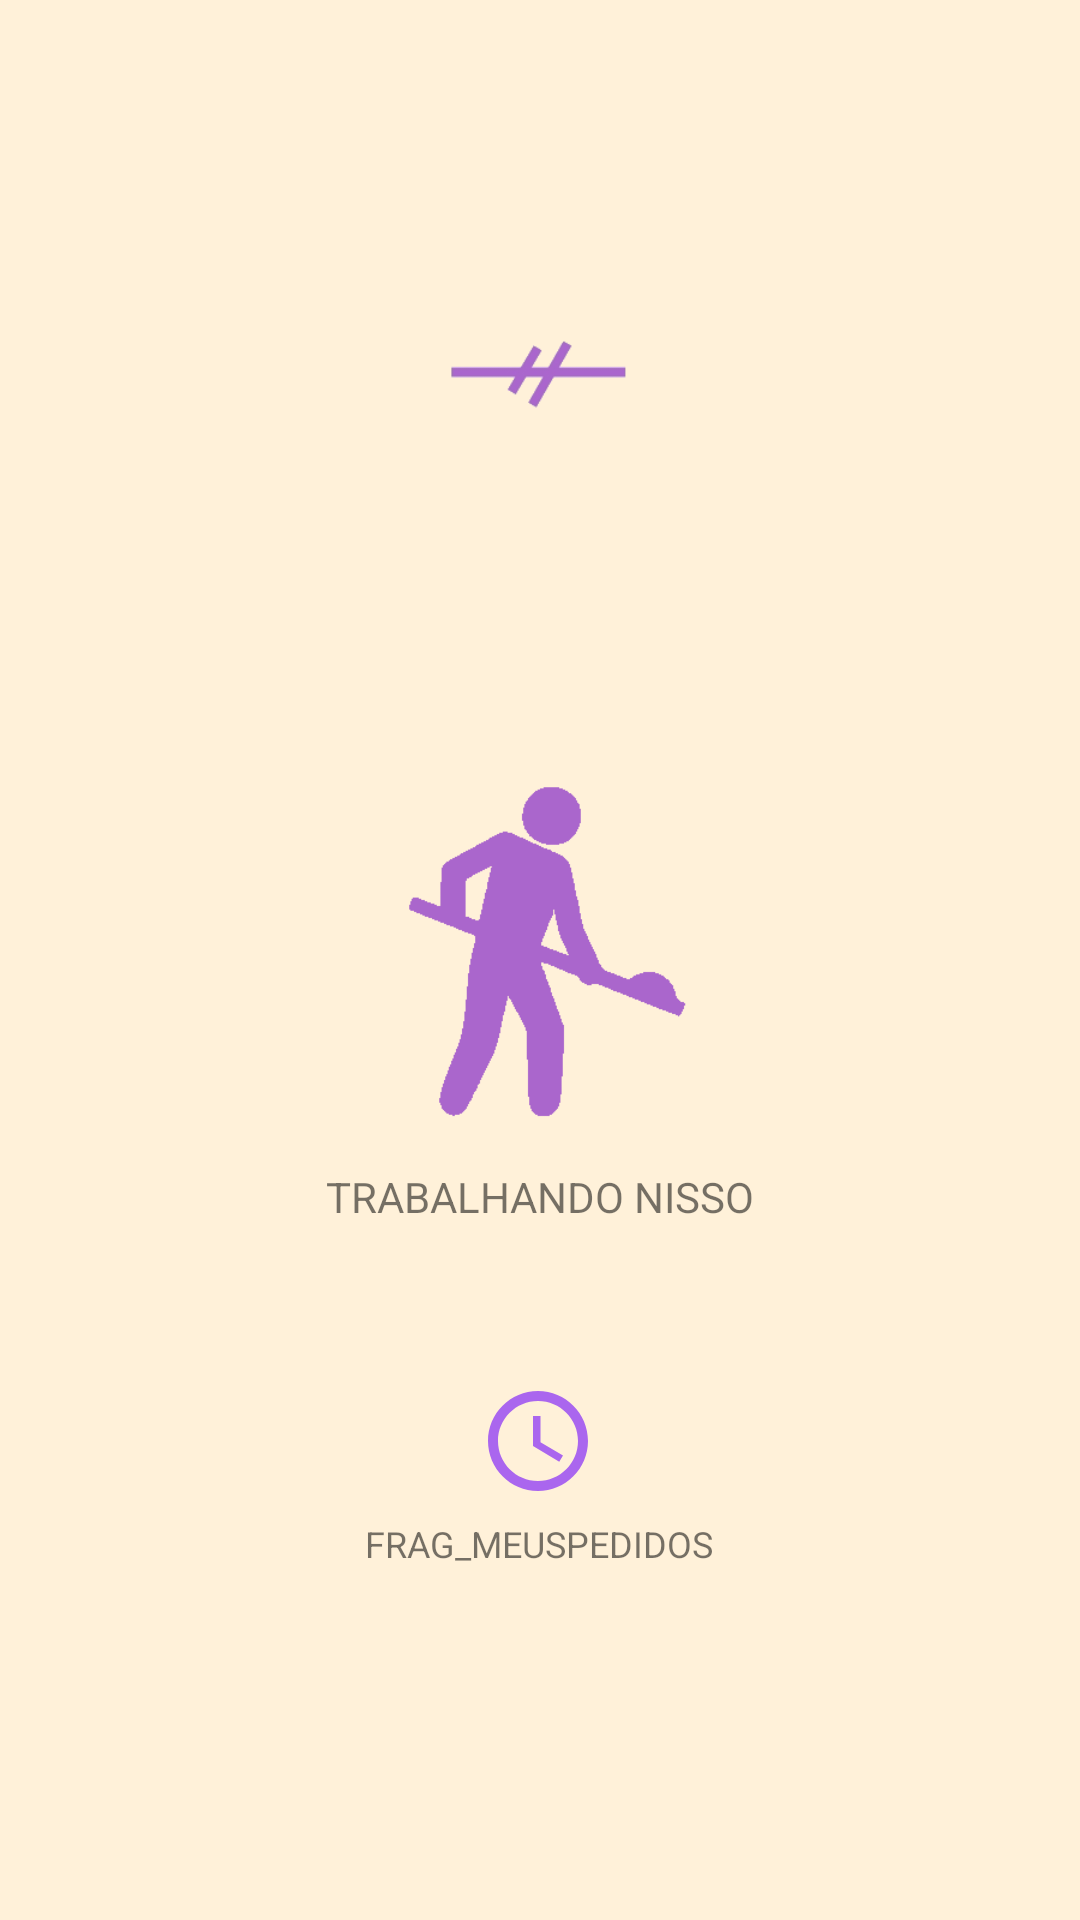

Icons on this 1080x1920 Android screen, each with its box as (x1,y1,x2,y2):
line: (451,341,626,407)
timer: (488,1391,588,1491)
